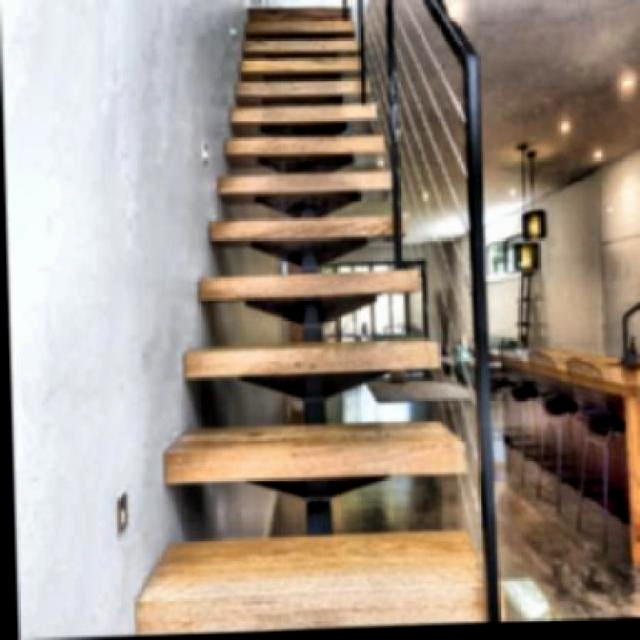stair: (123, 0, 483, 634)
